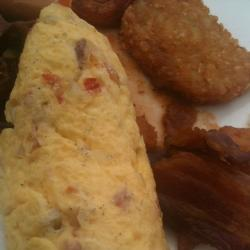omelette: (4, 5, 168, 249)
